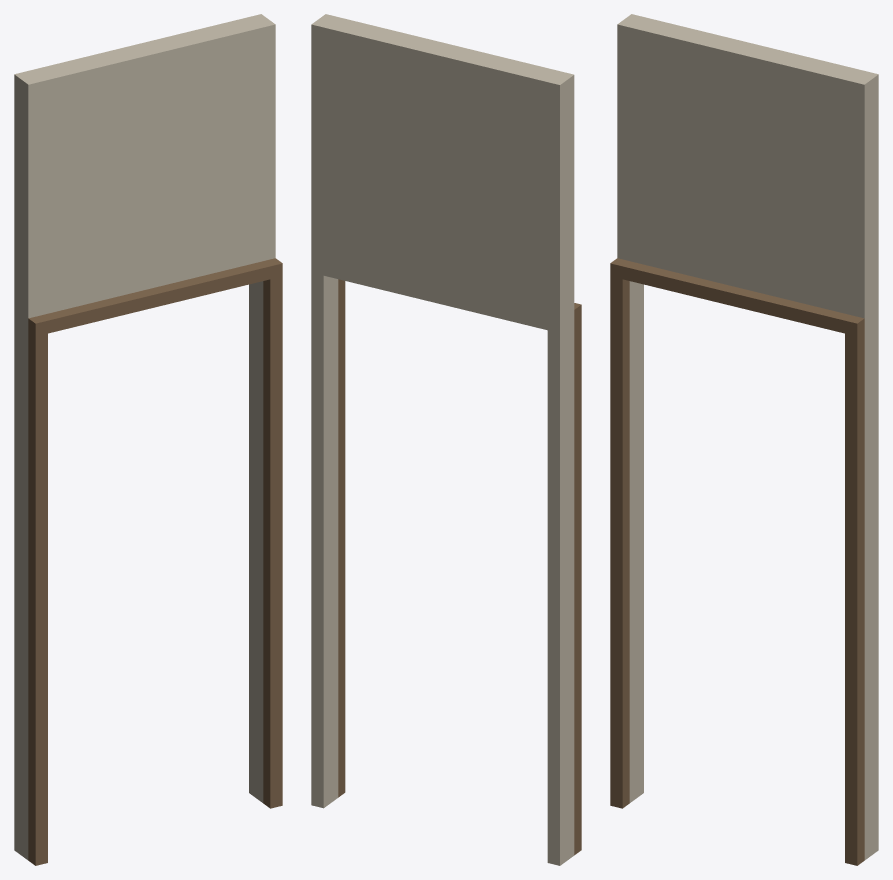
Rendered from Mesh_DoorHole_01.fbx.
3 renders of one model, left to right at view 1: azimuth 30°, elevation 25°; view 2: azimuth 150°, elevation 25°; view 3: azimuth 330°, elevation 25°, orthographic.
Visible parts, largest first — view 1: Mesh_DoorHole_01; view 2: Mesh_DoorHole_01; view 3: Mesh_DoorHole_01.
Part boxes in pixels (x1,y1,x2,y2): Mesh_DoorHole_01: (14, 14, 282, 865); Mesh_DoorHole_01: (311, 14, 581, 865); Mesh_DoorHole_01: (610, 14, 878, 865).
Size of the model in its own units: 1 by 3 by 0.15.
